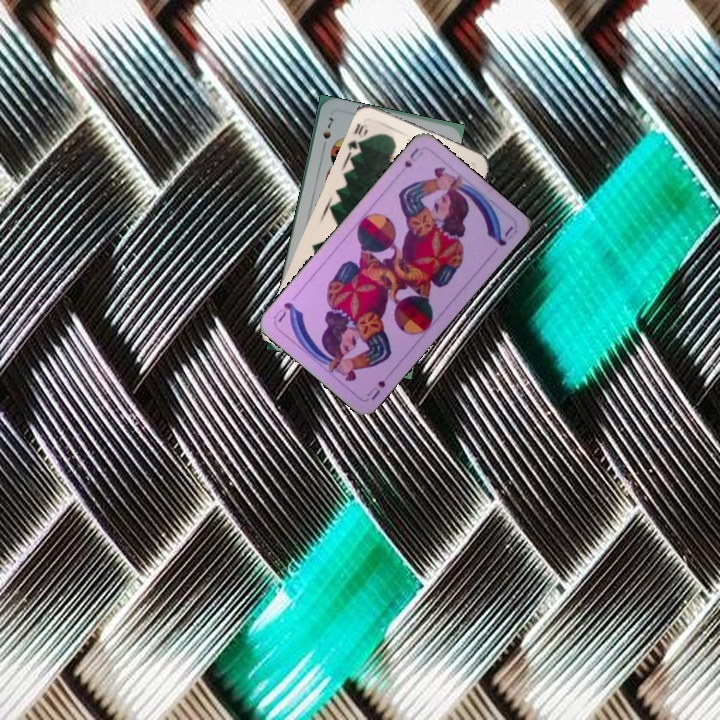G10: (344, 119, 371, 158)
S7: (319, 113, 336, 152)
SU: (363, 368, 394, 402), (400, 144, 425, 170)
